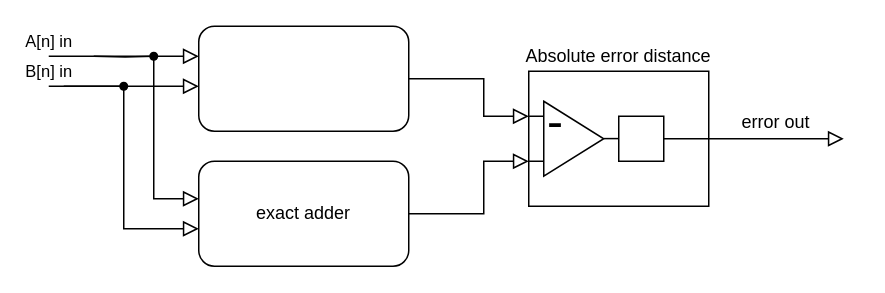
The diagram is 885 pixels wide and 293 high, and some of its shapes have lost their labels. The centre of each missing label's shape, as x and y in pixels:
abs: the point at 640,138
INXA1 approx. adder: the point at 303,78
